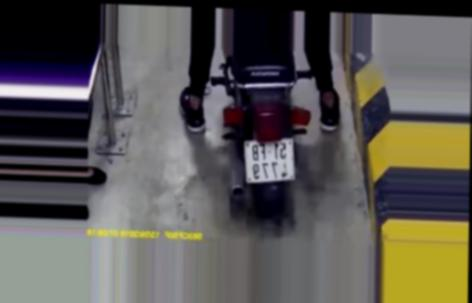License_Plate: (238, 134, 301, 188)
